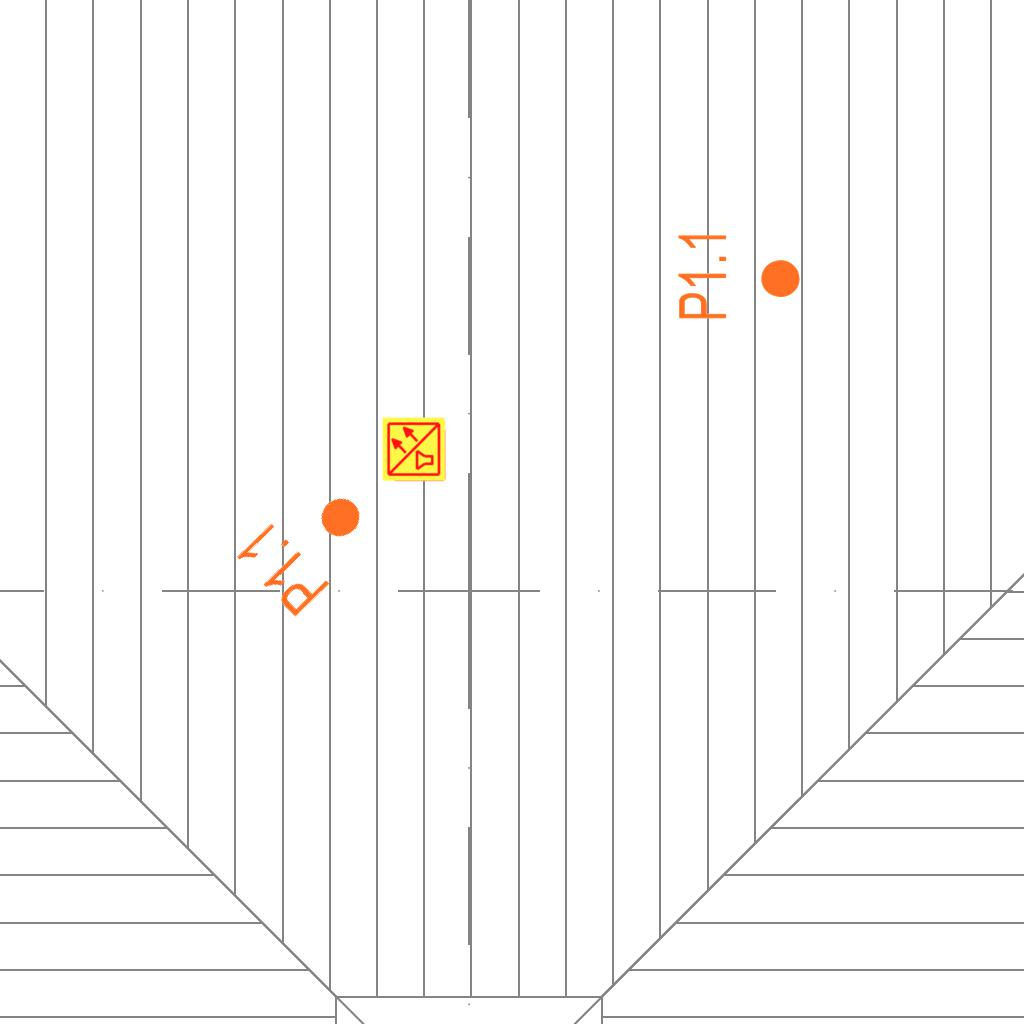Downlight_LED_Einbauleuchten_Flur: (230, 466, 387, 622), (675, 229, 803, 322)
OKW_Multisensormelder_(Kombination_optischer_Rauch-Kahlenmonoxid_Waerme-Melder): (381, 416, 447, 482)
